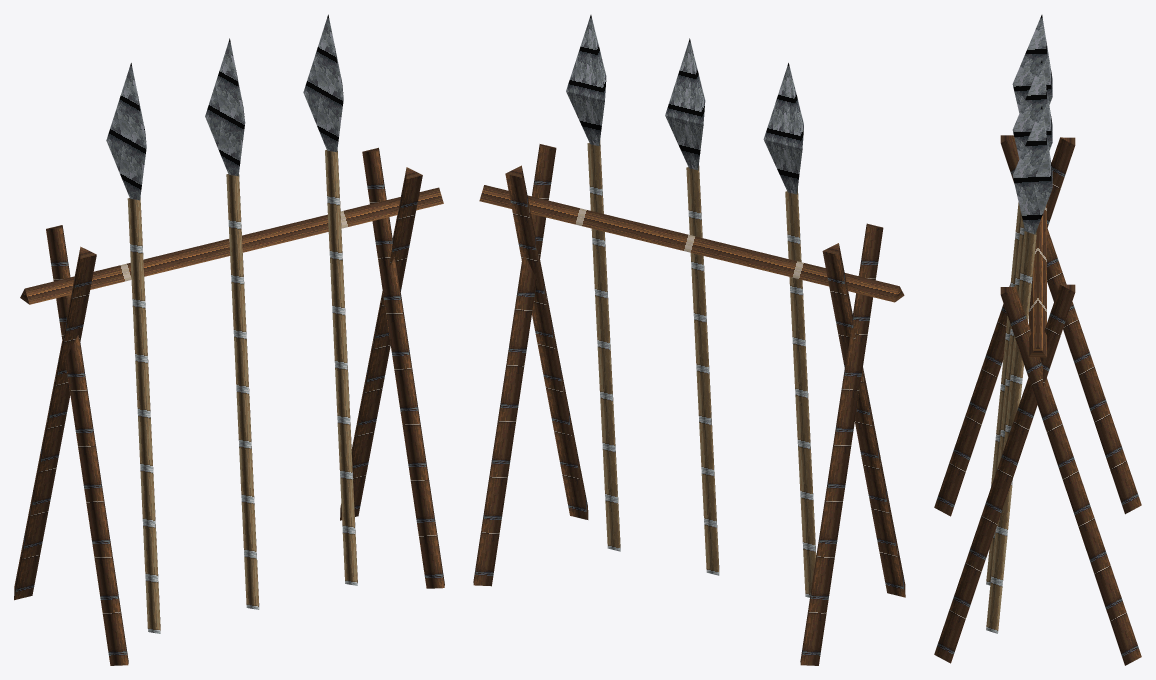
File: 3349IMIG12_10.gltf
The picture shows the model from 3 angles, left to right: view 1: azimuth 30°, elevation 25°; view 2: azimuth 150°, elevation 25°; view 3: azimuth 270°, elevation 25°; orthographic projection. The views are drawn at different scales.
Parts seen in each view (by area): view 1: 3349IMIG12_10; view 2: 3349IMIG12_10; view 3: 3349IMIG12_10.
Boxes of the visible parts, x1,y1,x2,y2 form: 3349IMIG12_10: (14, 14, 444, 665); 3349IMIG12_10: (473, 15, 905, 665); 3349IMIG12_10: (934, 15, 1141, 665).
Bounding box in the file's own units: 0.9609 × 1.22 × 0.438.
Materials: 4 (4 with a texture image).
